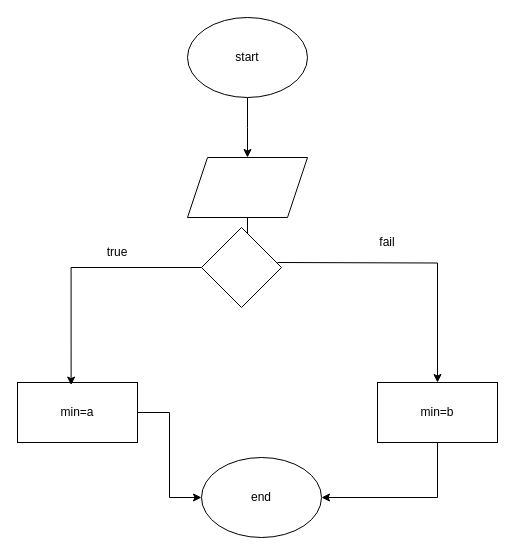
The diagram is 515 pixels wide and 555 high, and some of its shapes have lost their labels. The centre of each missing label's shape, as x and y in pixels:
a<b: point (241, 267)
input a,b: point (247, 187)
